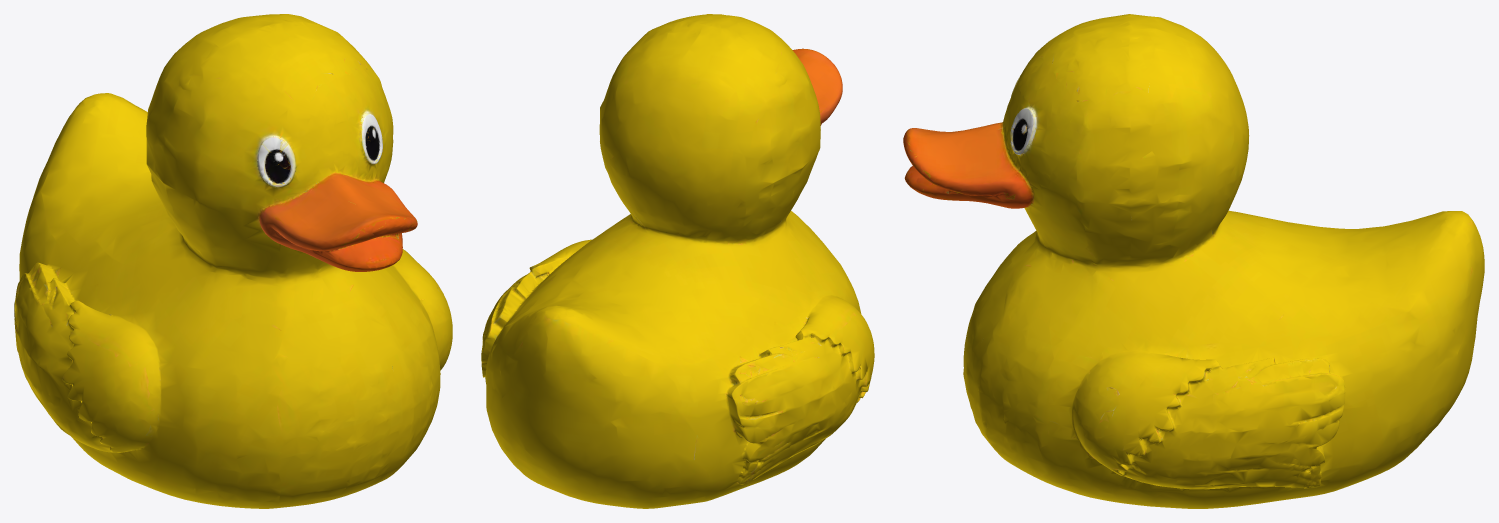
File: duck.glb
3 views of the same model, side by side, from view 1: azimuth 30°, elevation 25°; view 2: azimuth 150°, elevation 25°; view 3: azimuth 270°, elevation 25° (orthographic). The views are drawn at different scales.
Parts seen in each view (by area): view 1: Mesh_0; view 2: Mesh_0; view 3: Mesh_0.
Part boxes in pixels (x1,y1,x2,y2): Mesh_0: [14, 14, 452, 508]; Mesh_0: [481, 14, 874, 508]; Mesh_0: [903, 14, 1484, 508].
Bounding box in the file's own units: 1.36 × 1.55 × 1.9.
Materials: 1 (1 with a texture image).
